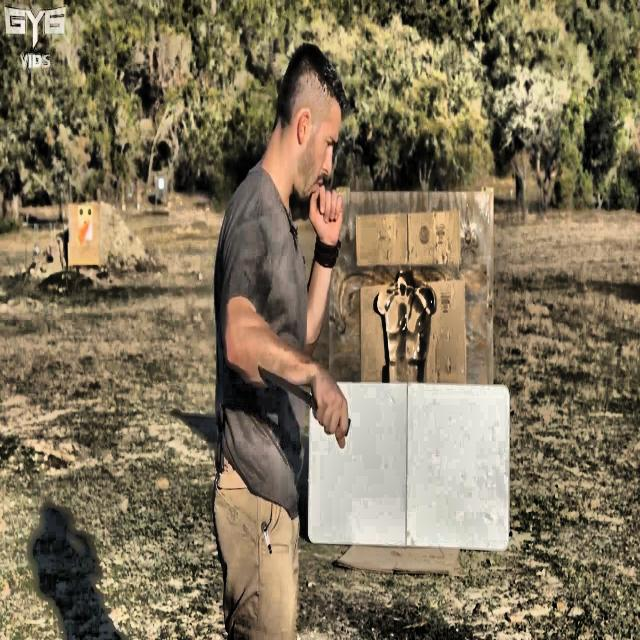knife: (260, 368, 351, 436)
